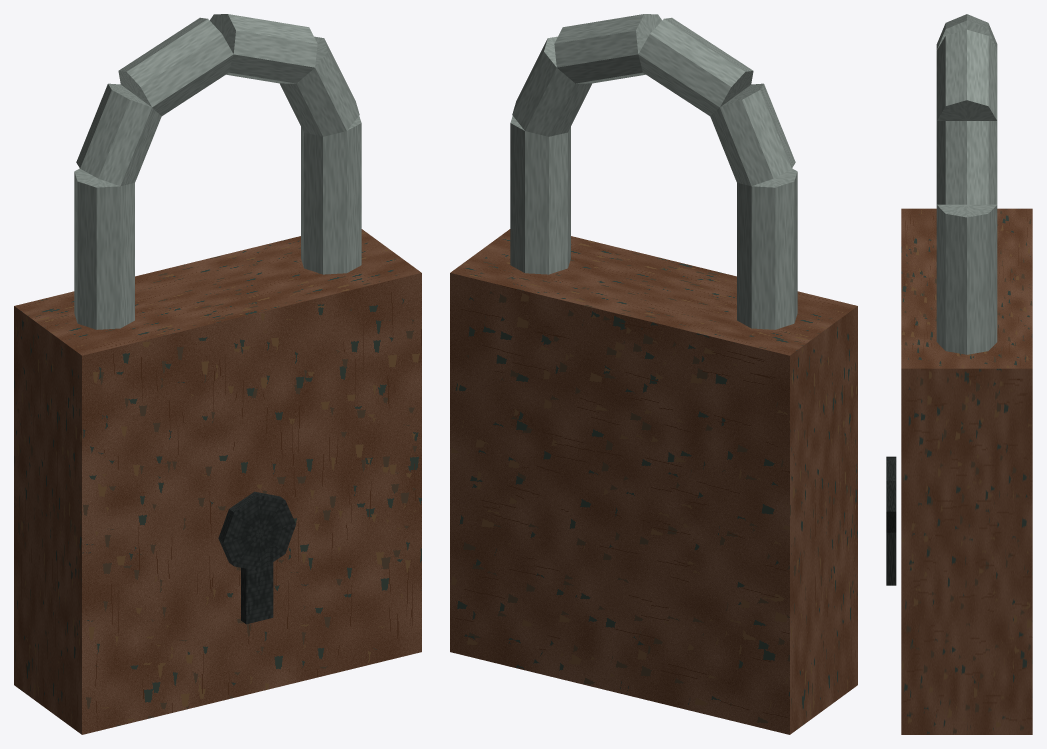
File: Padlock.glb
3 renders of one model, left to right at view 1: azimuth 30°, elevation 25°; view 2: azimuth 150°, elevation 25°; view 3: azimuth 270°, elevation 25°, orthographic. The views are drawn at different scales.
Visible parts, largest first — view 1: Padlock; view 2: Padlock; view 3: Padlock.
Boxes of the visible parts, left/top/right/bottom form: Padlock: left=14, top=14, right=421, bottom=734; Padlock: left=450, top=14, right=857, bottom=734; Padlock: left=886, top=14, right=1032, bottom=734.
Bounding box in the file's own units: 0.075 × 0.1376 × 0.029.
Materials: 3 (3 with a texture image).
